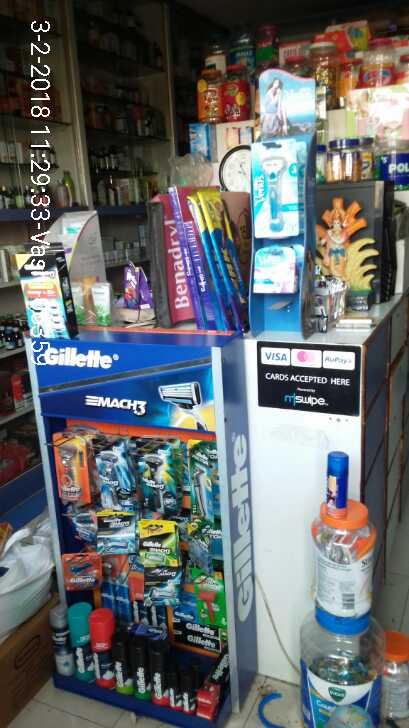beauty: (250, 138, 305, 236), (44, 432, 88, 505), (131, 449, 178, 510), (184, 442, 223, 514), (90, 446, 133, 511), (252, 244, 304, 297)
